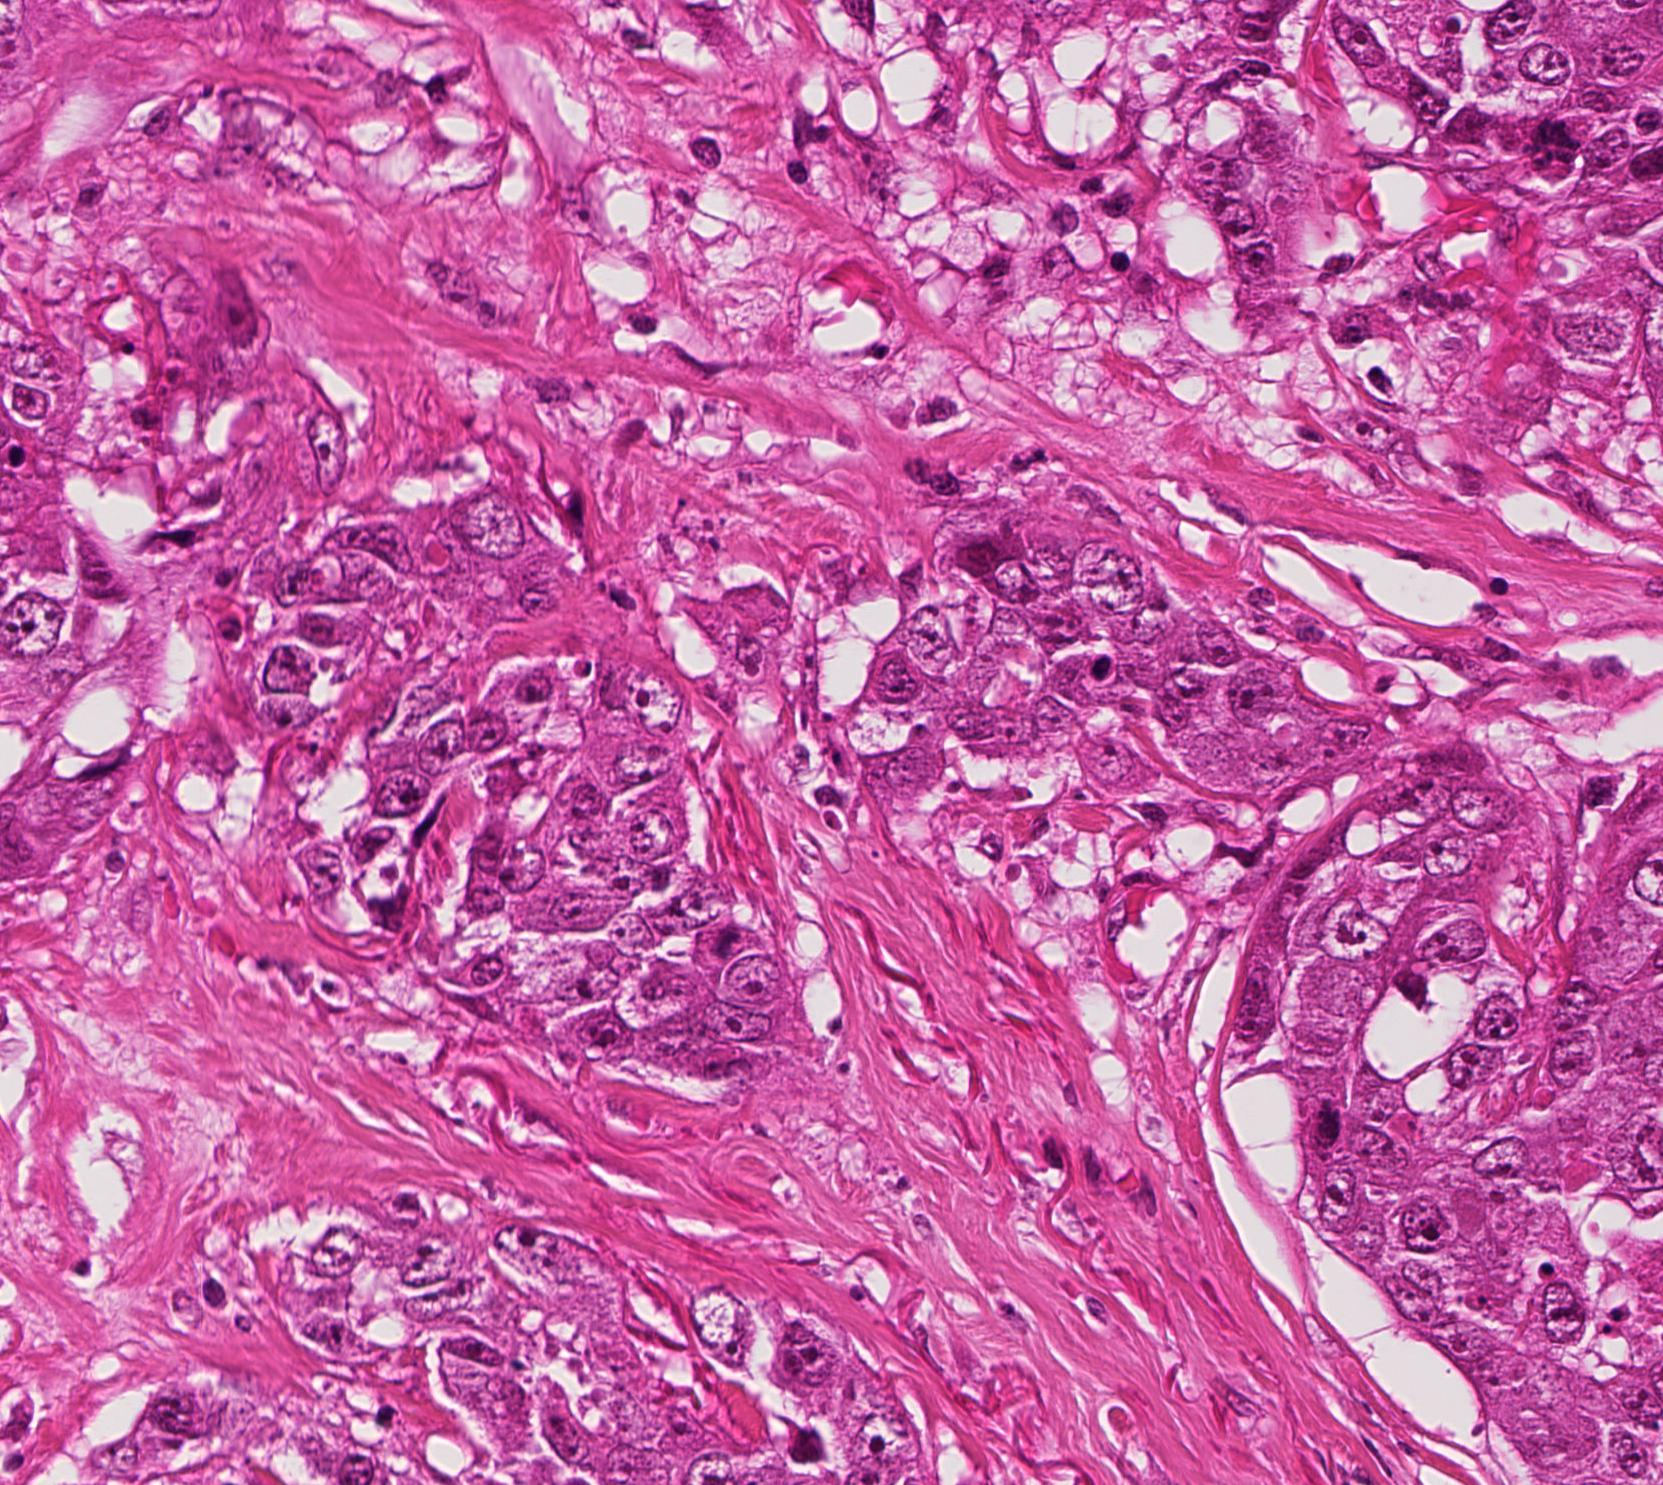mitosis: (1305, 1107, 1365, 1165)
